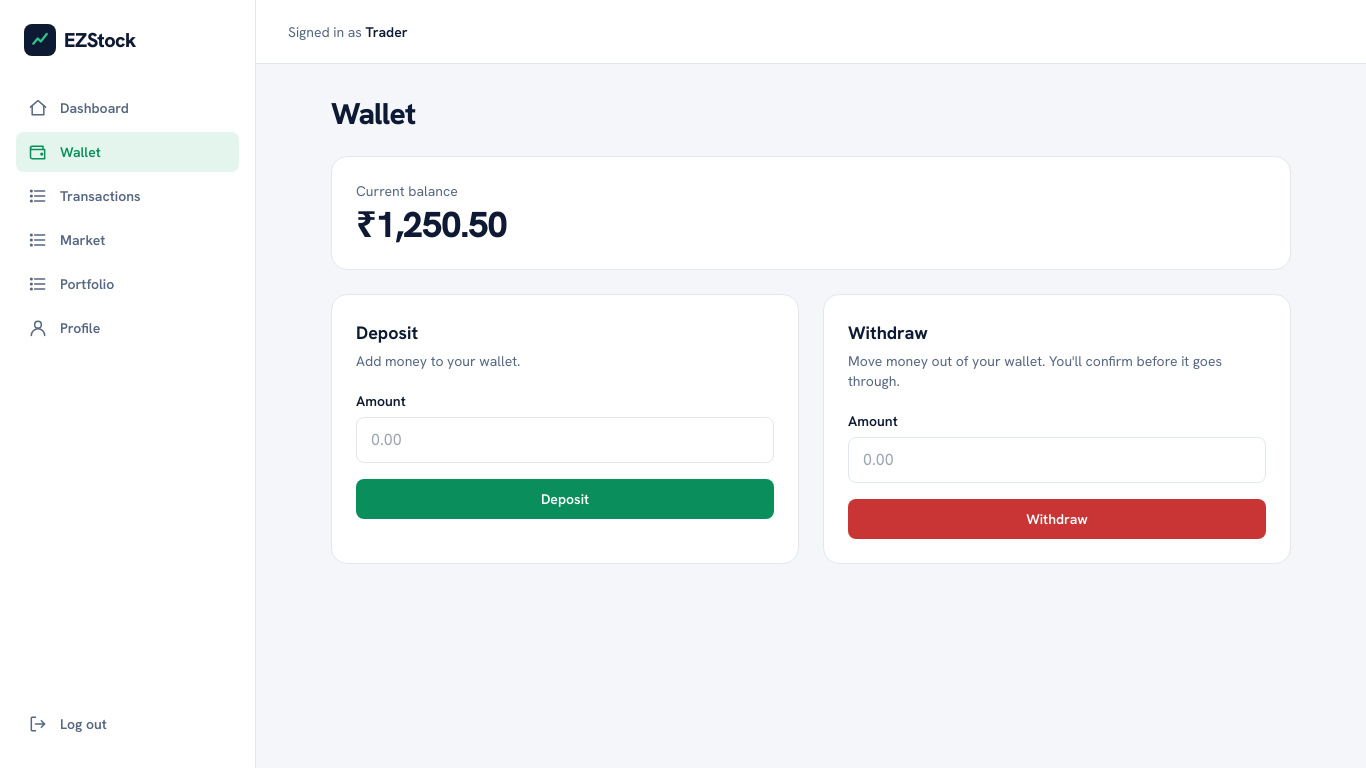
Test: wallet page › asks for confirmation, then withdraws
Check: the text "₹1,250.50" is shown, box [356,201,507,248]
In the 2nd field labelled "Amount": (1057, 460) [848,437,1266,483], type "250"
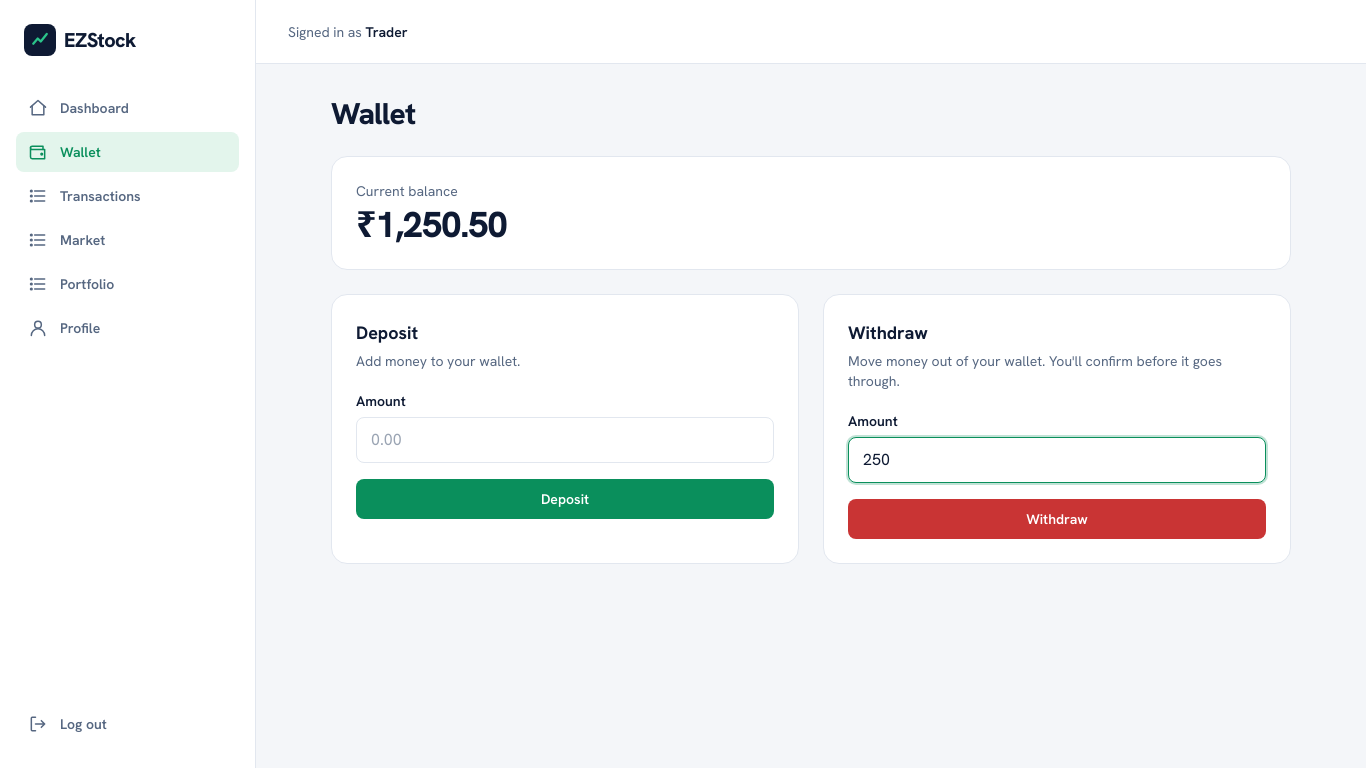
Click the button "Withdraw": (1057, 519) [848,499,1266,539]
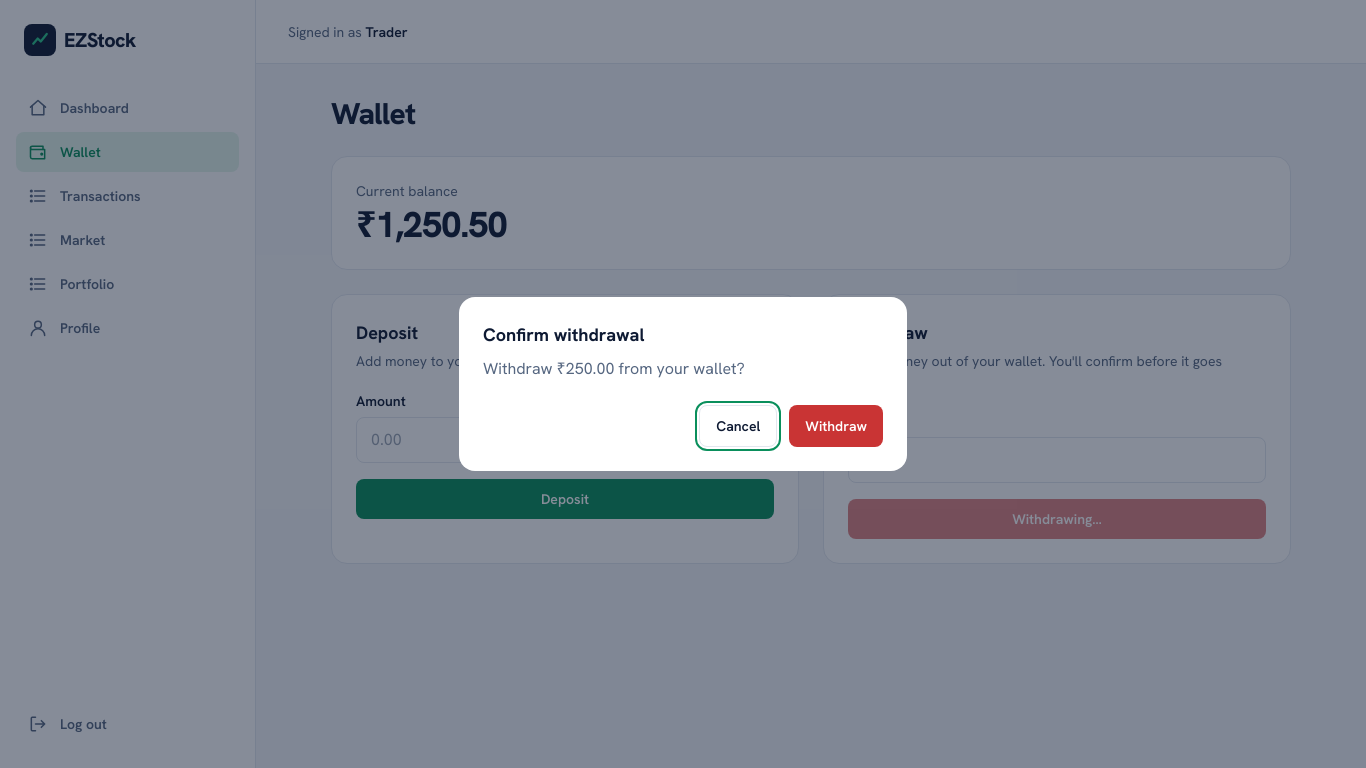
Click the button "Withdraw": (836, 426) [789,405,883,447]
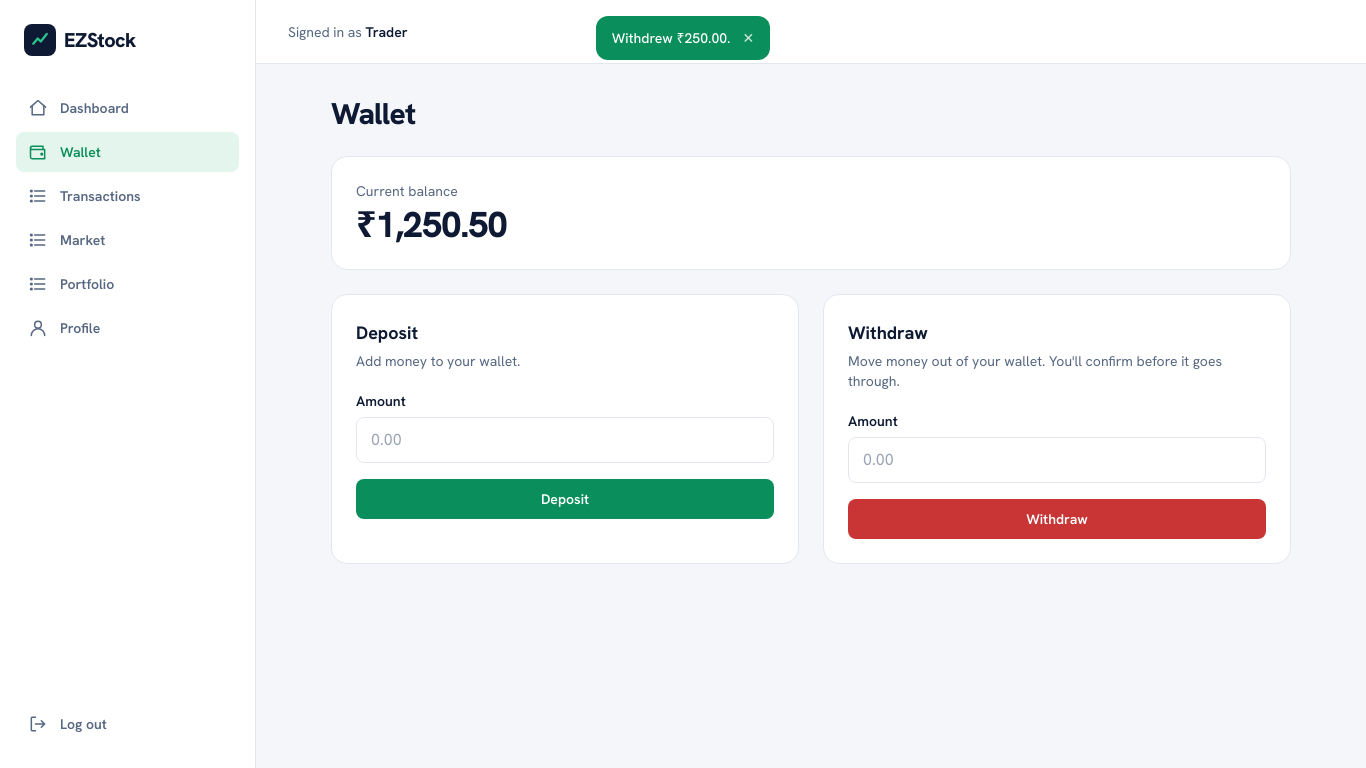
Check: the text "Withdrew ₹250.00." is shown, box [612,28,730,48]
